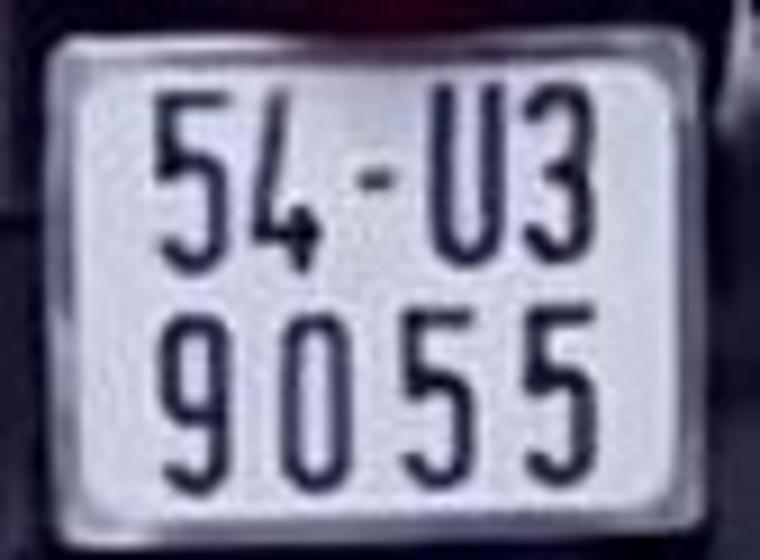-: (354, 159, 406, 210)
0: (269, 300, 362, 490)
3: (522, 78, 600, 273)
4: (243, 87, 333, 286)
5: (144, 80, 234, 281), (394, 305, 485, 493), (520, 296, 603, 492)
9: (158, 310, 245, 503)
U: (421, 71, 513, 278)
